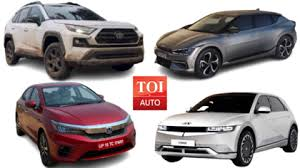Honda Ioniq: (153, 90, 300, 167)
